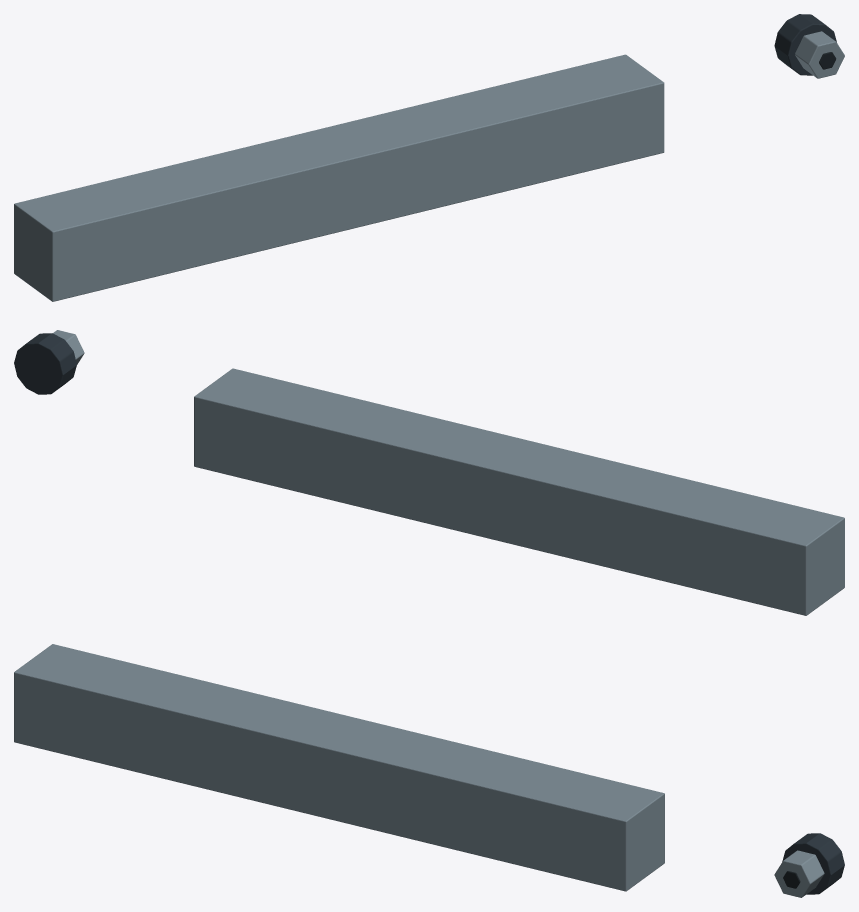
Rendered from SM_Lab_Console__Cabinet_0_Drawer_1_Handle.fbx.
3 views of the same model, one above another, from view 1: azimuth 30°, elevation 25°; view 2: azimuth 150°, elevation 25°; view 3: azimuth 330°, elevation 25° (orthographic).
Parts seen in each view (by area): view 1: SM_Lab_Console__Cabinet_0_Drawer_1_Handle; view 2: SM_Lab_Console__Cabinet_0_Drawer_1_Handle; view 3: SM_Lab_Console__Cabinet_0_Drawer_1_Handle.
Boxes of the visible parts, bbox=[...] form: SM_Lab_Console__Cabinet_0_Drawer_1_Handle: bbox=[14, 14, 844, 301]; SM_Lab_Console__Cabinet_0_Drawer_1_Handle: bbox=[14, 330, 844, 615]; SM_Lab_Console__Cabinet_0_Drawer_1_Handle: bbox=[14, 644, 844, 897].
Bounding box in the file's own units: 26.17 × 2.2 × 2.41.
